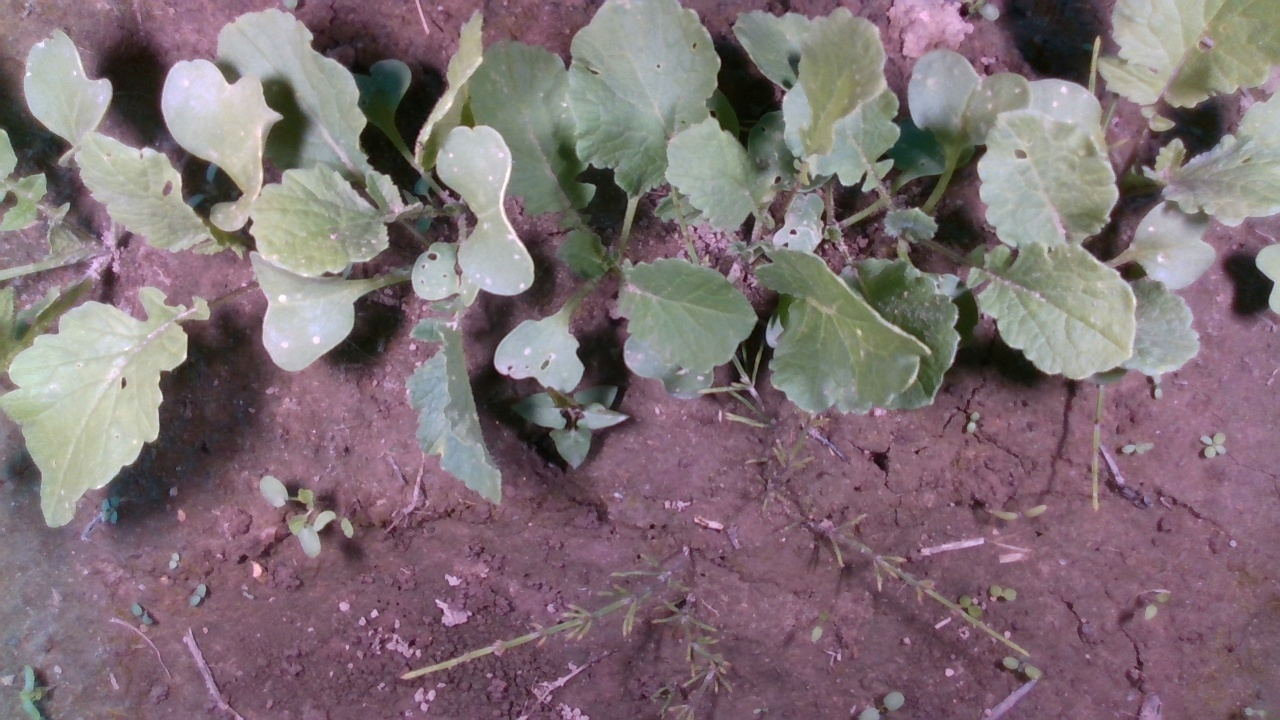weed: (987, 503, 1049, 521), (1001, 655, 1043, 681), (1142, 591, 1171, 622), (1197, 431, 1227, 459), (98, 494, 119, 525), (132, 602, 154, 626), (1119, 440, 1154, 455), (189, 582, 207, 608), (989, 585, 1017, 600), (967, 410, 980, 432), (168, 551, 180, 570)
